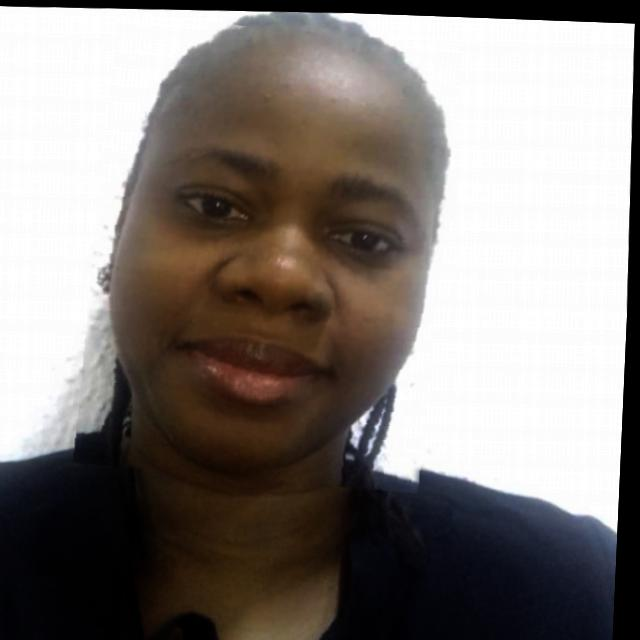happy: (76, 12, 462, 491)
